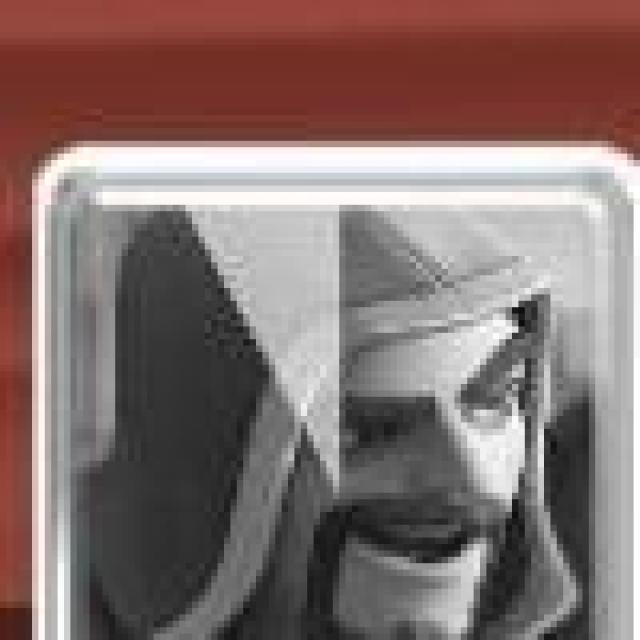Wizard: (34, 144, 640, 640)
